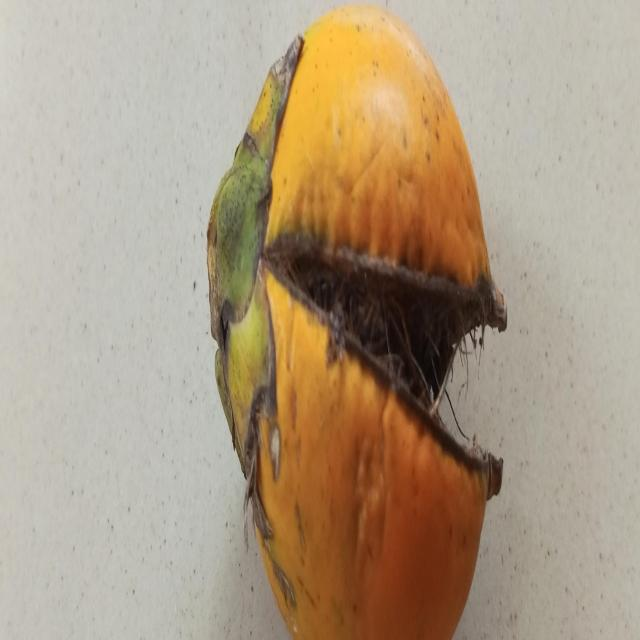damaged: (208, 7, 507, 640)
